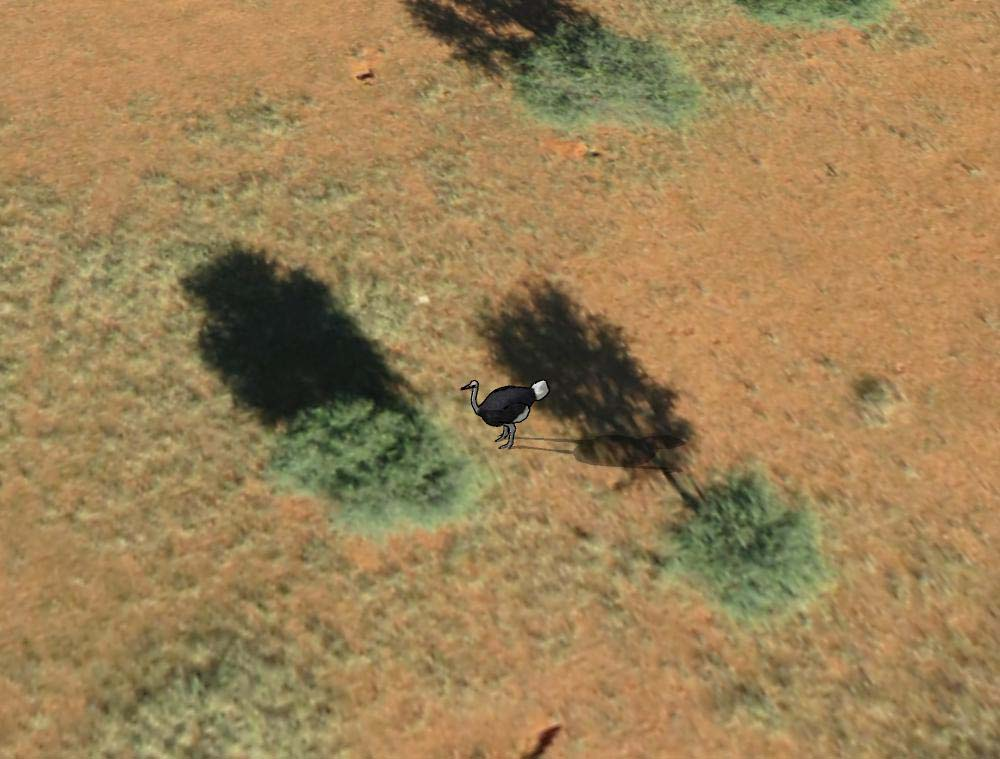springbok: (456, 369, 551, 452)
